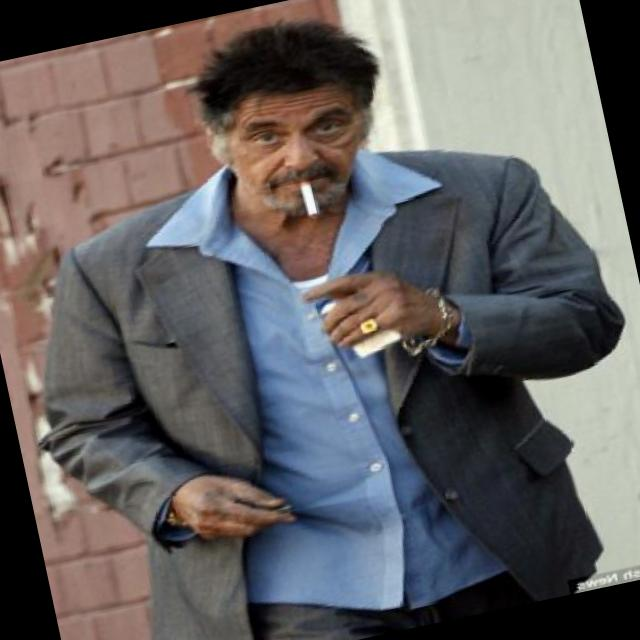smoke: (285, 156, 336, 231)
